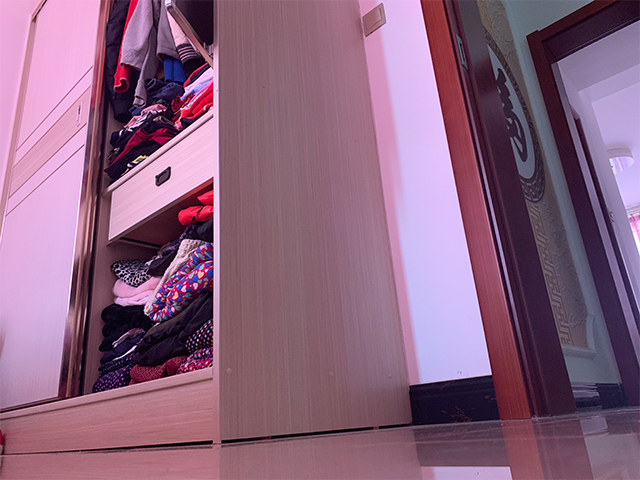cabinet: (1, 1, 415, 456)
